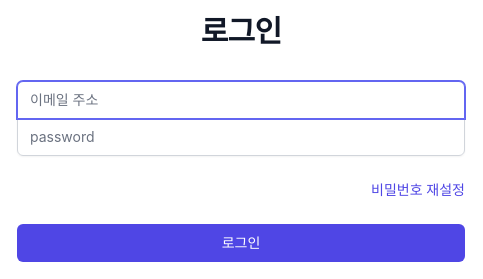
Test: password를 입력할 경우, password input value가 변경된다
Click the password field with test id "passwordInput".
click(241, 137)  # box x1=17 y1=118 x2=465 y2=156
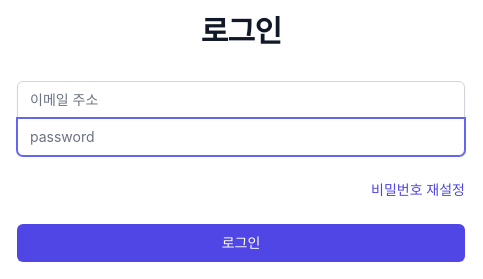
Type keys "asdf1234"
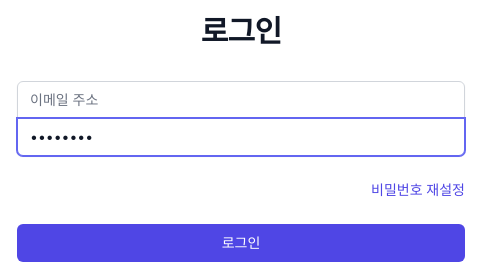
Result: the password field with test id "passwordInput" holds "asdf1234" at x1=17 y1=118 x2=465 y2=156
